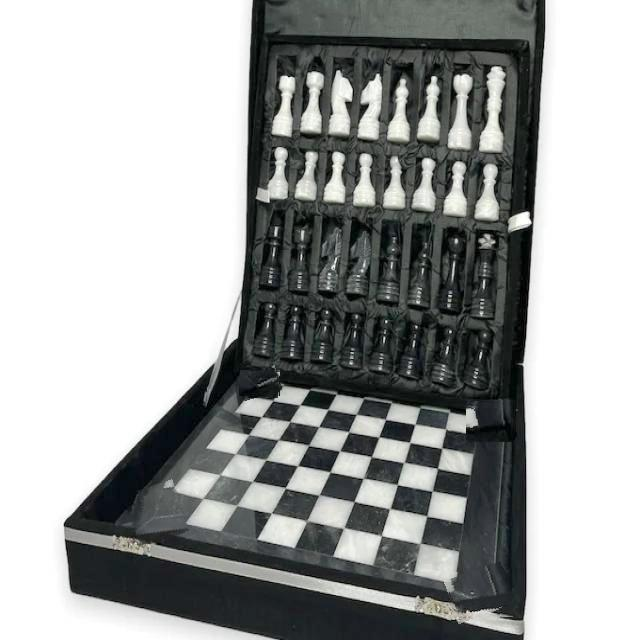chess-table-corners: (125, 482, 185, 544), (447, 566, 513, 620), (466, 399, 516, 442), (239, 368, 281, 398)
